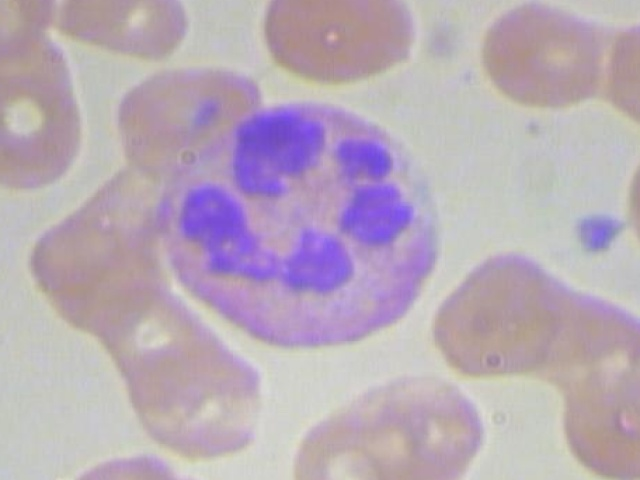Platelets: (568, 206, 635, 264)
RBC: (418, 243, 576, 383), (121, 327, 278, 466), (347, 364, 504, 480), (473, 0, 607, 115), (254, 0, 420, 92), (0, 59, 99, 195), (547, 343, 640, 480), (56, 0, 189, 67), (55, 442, 228, 480), (599, 0, 640, 136), (617, 123, 640, 307), (571, 471, 640, 480)
WBC: (149, 86, 452, 360)
